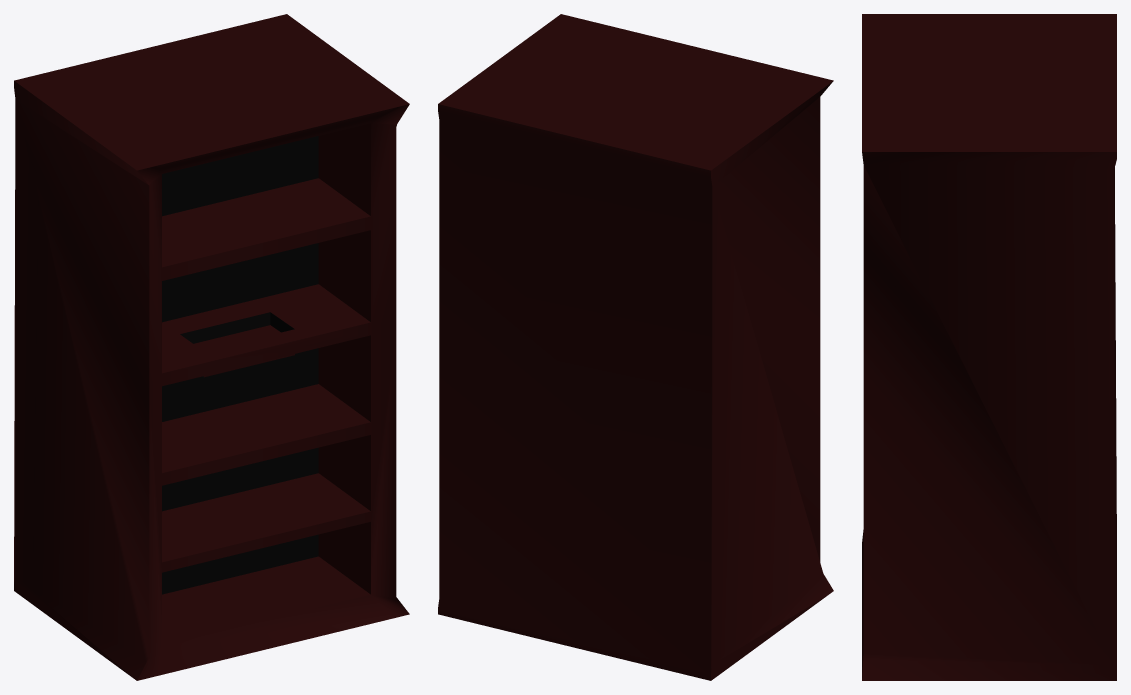
The model's file is bookshelfopen.FBX.
3 views of the same model, side by side, from view 1: azimuth 30°, elevation 25°; view 2: azimuth 150°, elevation 25°; view 3: azimuth 270°, elevation 25° (orthographic). The views are drawn at different scales.
Visible parts, largest first — view 1: Box001; view 2: Box001; view 3: Box001.
Part boxes in pixels (x1=…): Box001: x1=14, y1=14, x2=409, y2=680; Box001: x1=438, y1=14, x2=833, y2=680; Box001: x1=862, y1=14, x2=1116, y2=680.
Bounding box in the file's own units: 39.18 × 70 × 30.58.
